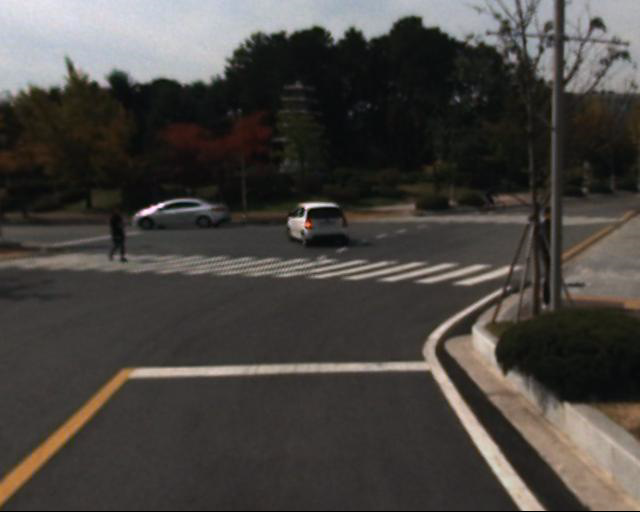person: (524, 199, 581, 317), (102, 197, 137, 271)
